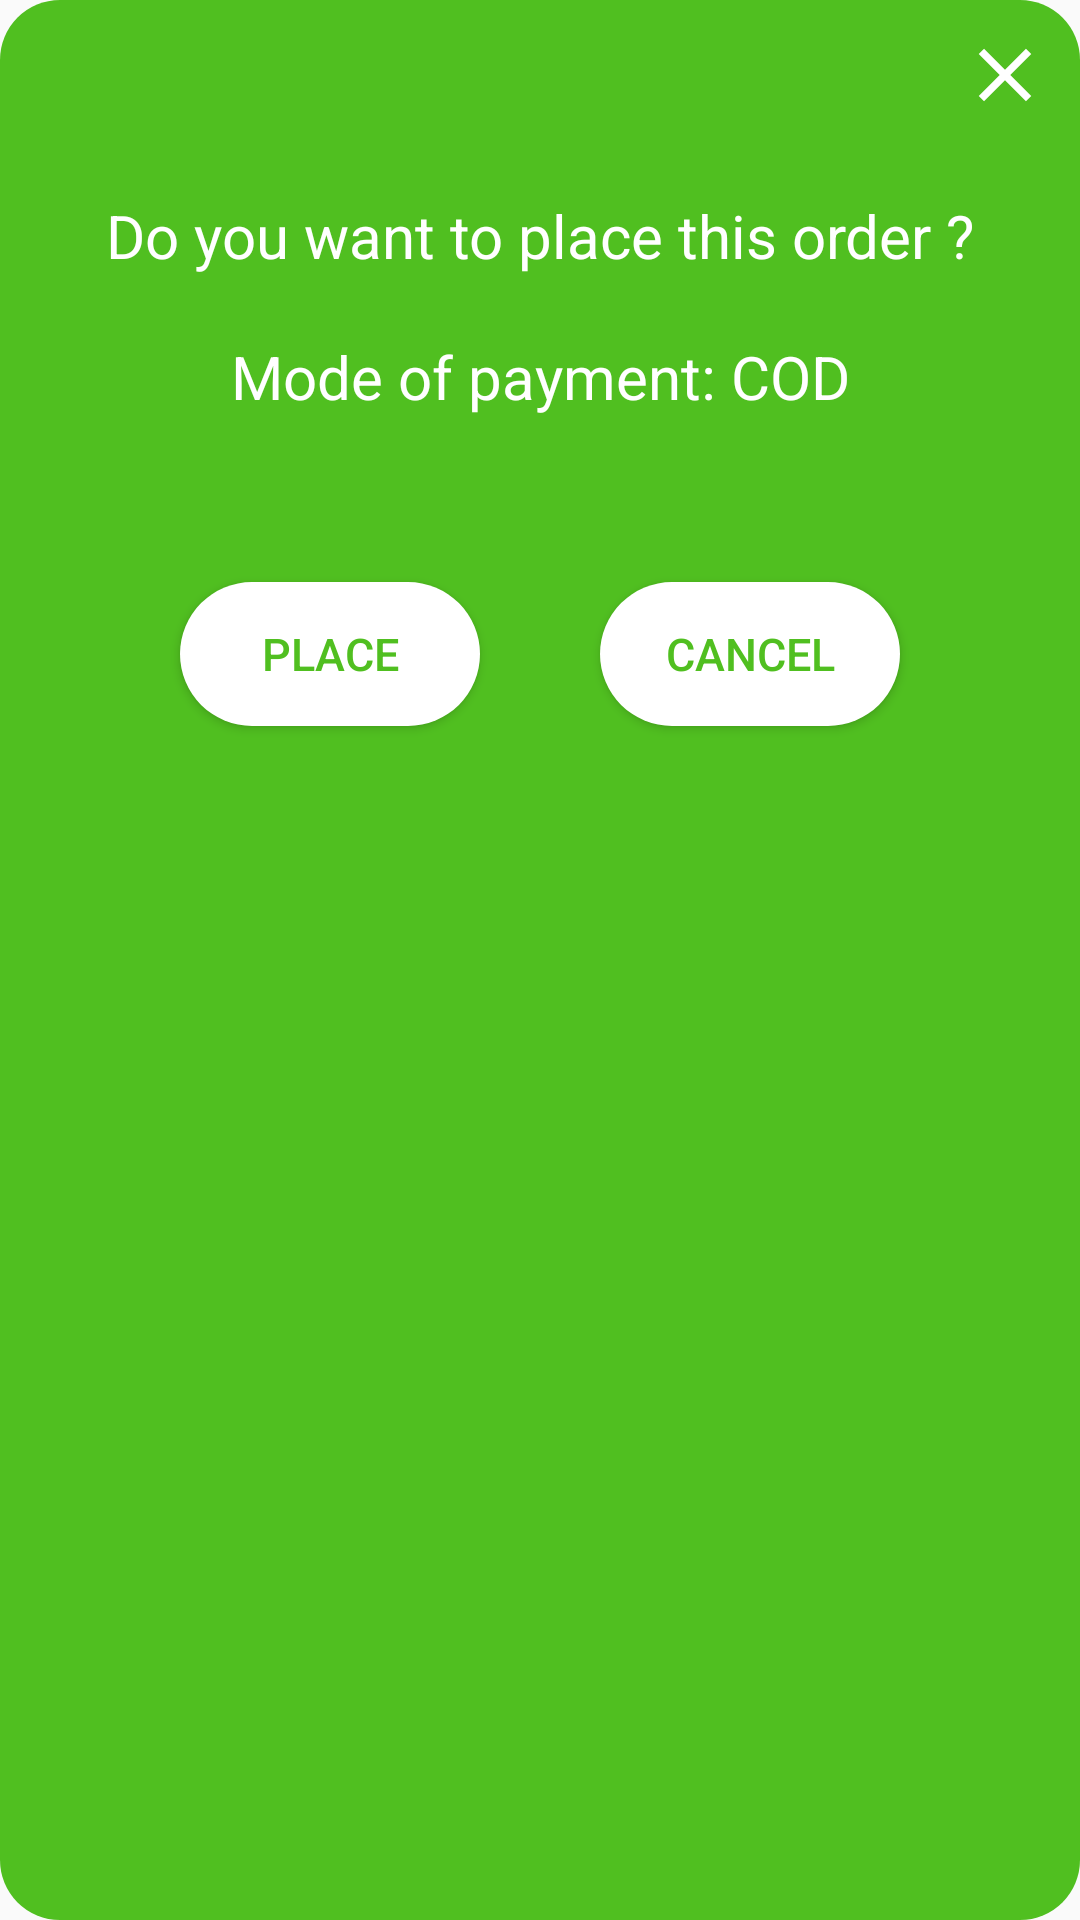

Where icons sit on this 1080x1920 app screen, as (x1, y1, x2, y2):
closeicon: (979, 49, 1031, 101)
